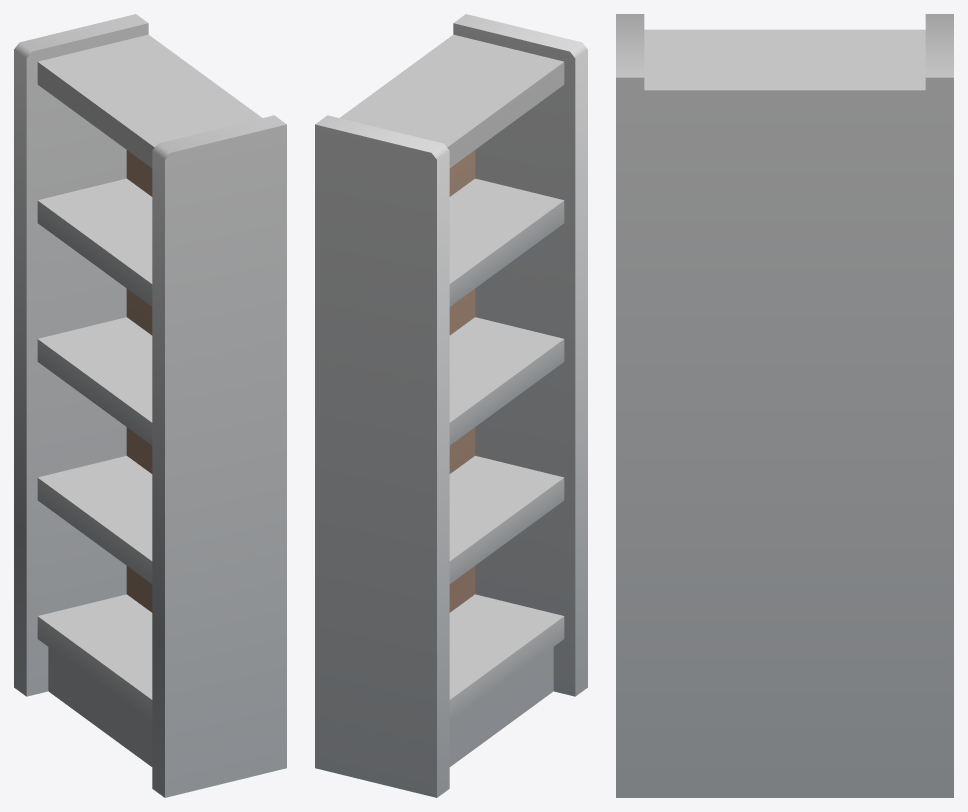
The model's file is cabinet-bookcase-short.glb.
3 views of the same model, side by side, from view 1: azimuth 30°, elevation 25°; view 2: azimuth 150°, elevation 25°; view 3: azimuth 270°, elevation 25° (orthographic). The views are drawn at different scales.
Visible parts, largest first — view 1: cabinet-bookcase-short; view 2: cabinet-bookcase-short; view 3: cabinet-bookcase-short.
Boxes of the visible parts, x1=… form: cabinet-bookcase-short: x1=14, y1=14, x2=286, y2=797; cabinet-bookcase-short: x1=315, y1=14, x2=587, y2=797; cabinet-bookcase-short: x1=616, y1=14, x2=953, y2=797.
Bounding box in the file's own units: 0.28 × 1.41 × 0.6.
